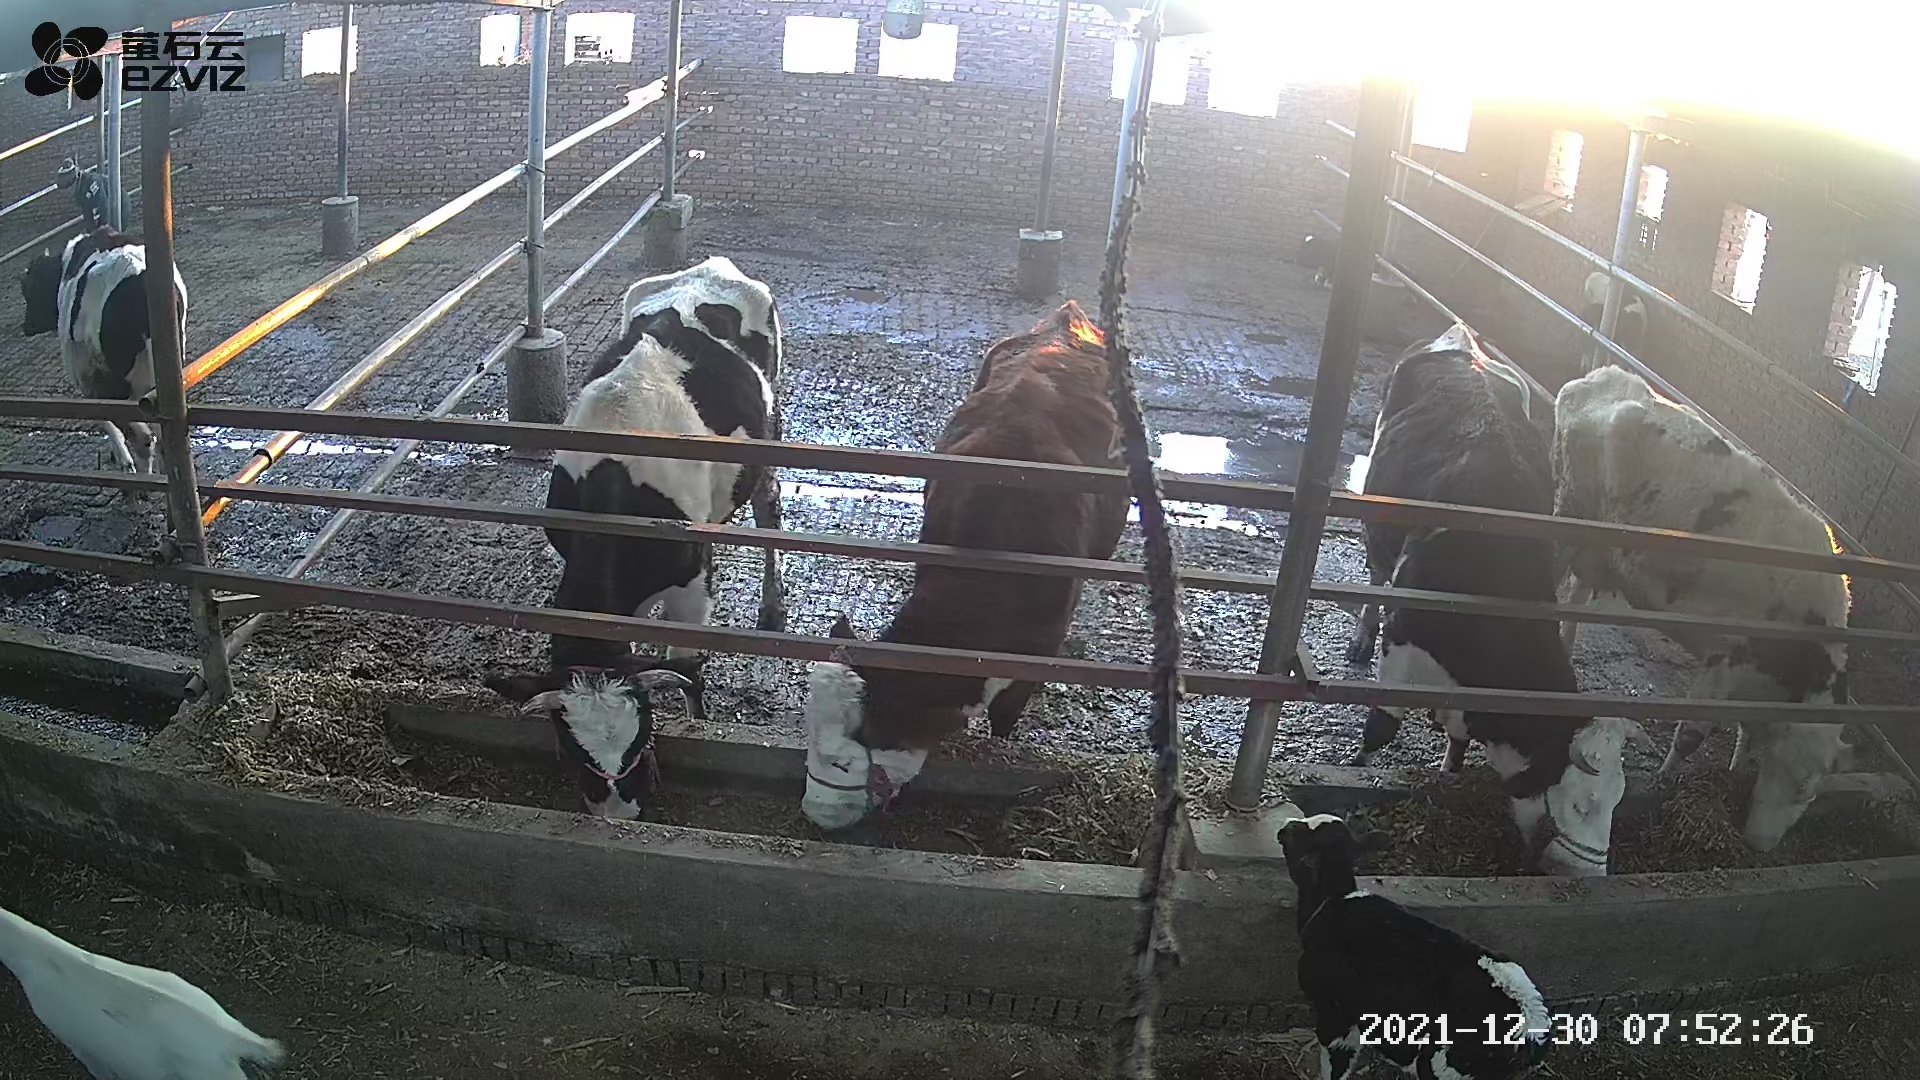cow: (1337, 313, 1659, 876), (799, 297, 1127, 832), (477, 256, 789, 820), (1547, 363, 1854, 853)
